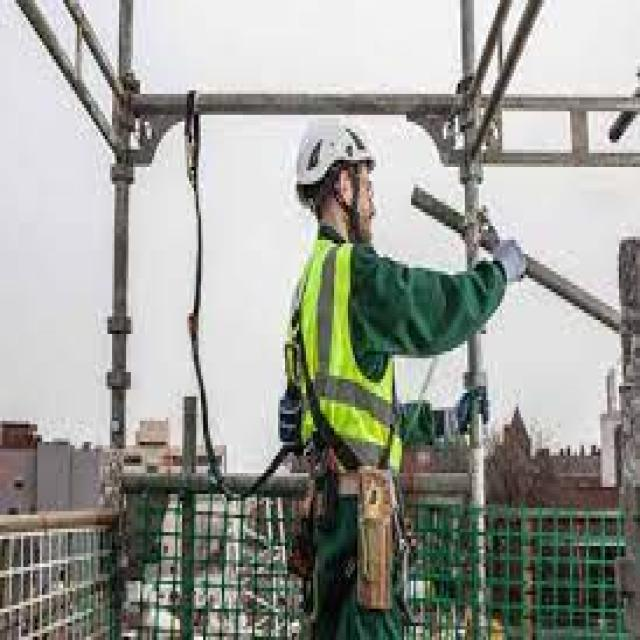harness: (182, 88, 304, 496)
